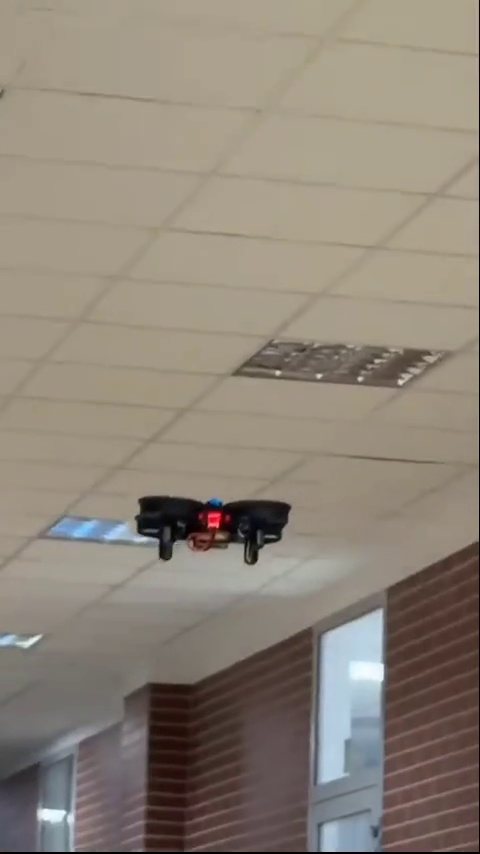drone: (128, 488, 295, 560)
